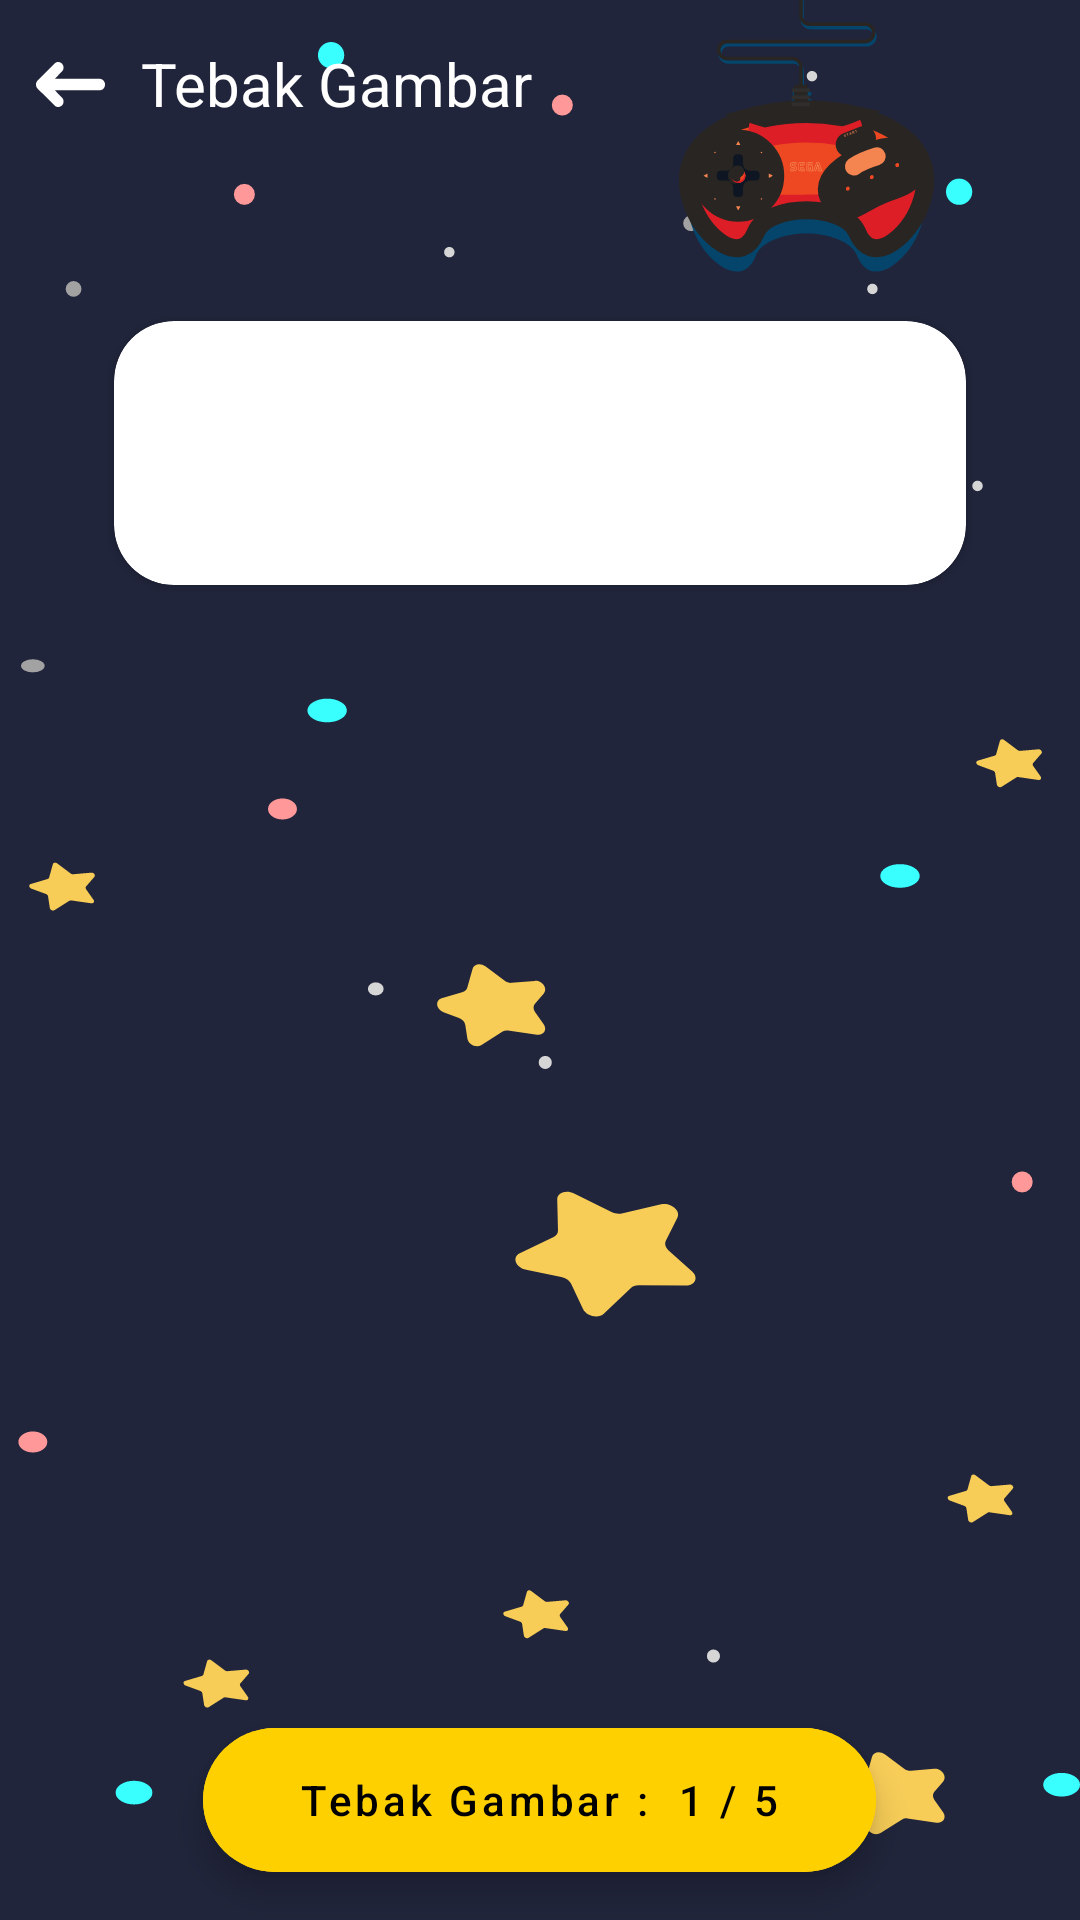

Screen size 1080px×1920px. Icon name, then its box in pixels as (x1, y1, x2, y2):
arrow left: (36, 62, 105, 107)
